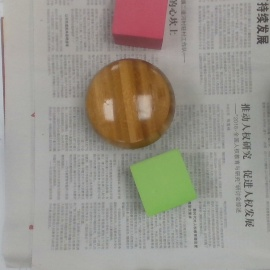chess: (84, 59, 175, 149)
